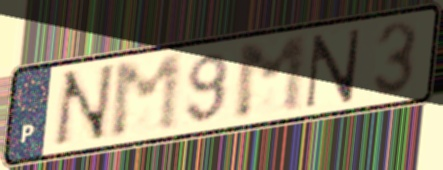3: (372, 18, 420, 101)
9: (180, 49, 236, 126)
M: (108, 50, 185, 143), (233, 31, 309, 124)
N: (48, 61, 119, 152), (301, 25, 365, 112)
